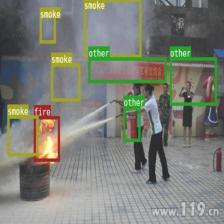fire: (34, 115, 60, 161)
smoke: (83, 0, 140, 57), (7, 115, 38, 155), (51, 63, 80, 101), (39, 7, 55, 42)
